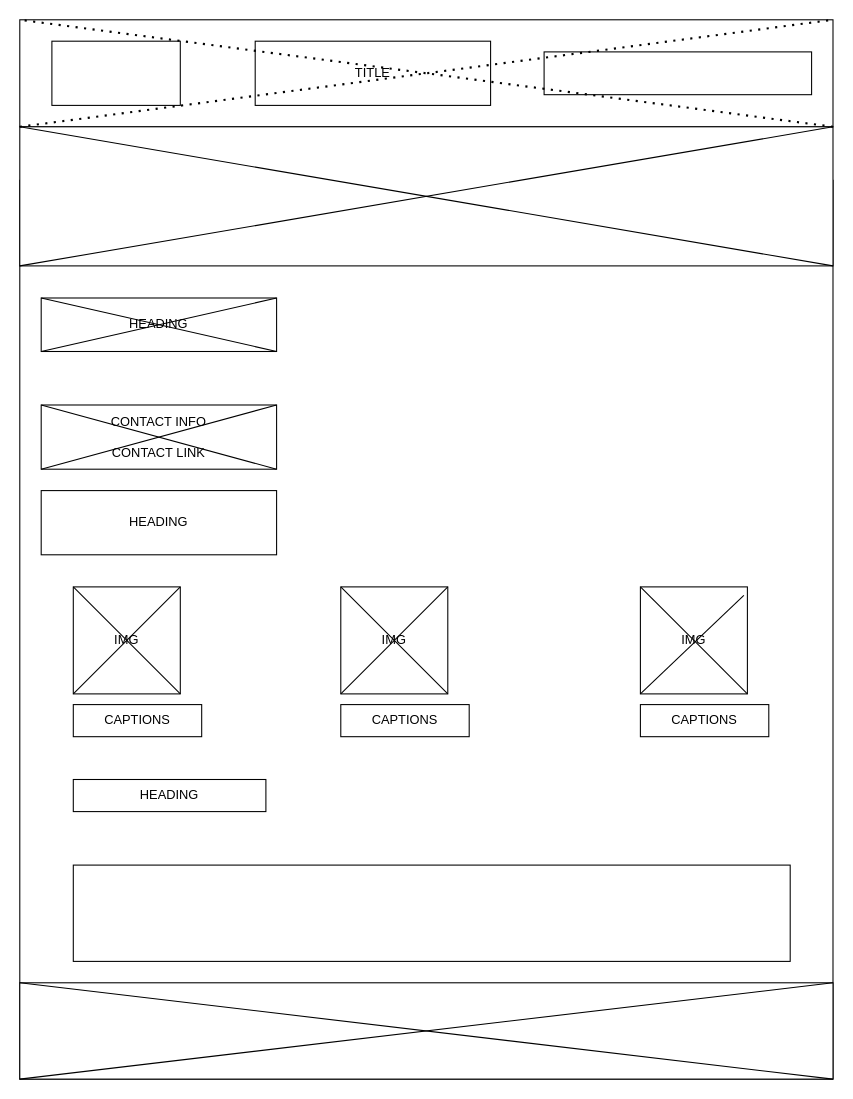
Image size: 853x1099. Some labels were removed from this diagram. Here are the shapes that lost their labels. From the top down, the centre of each, then its label:
At point 115,72: "LOGO".
At point 677,73: "NAV BUTTONS".
At point 426,196: "HERO IMAGE".
At point 431,912: "TABLE".
At point 426,1030: "FOOTER".
